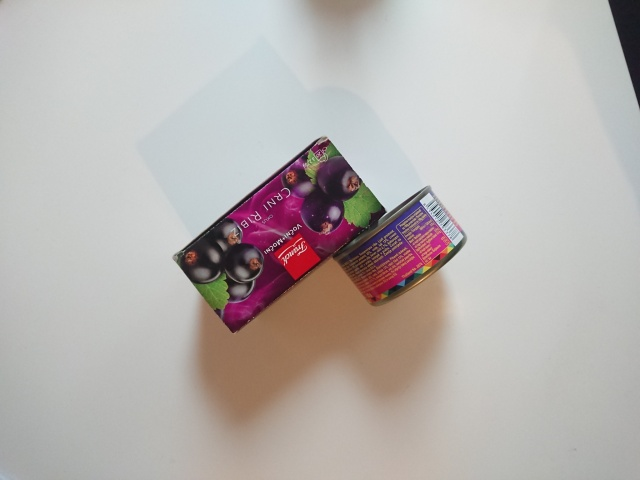Franck Black Currant Tea 60g: (169, 132, 390, 337)
Giana Tuna Salad Mexico 185g: (331, 183, 469, 309)
